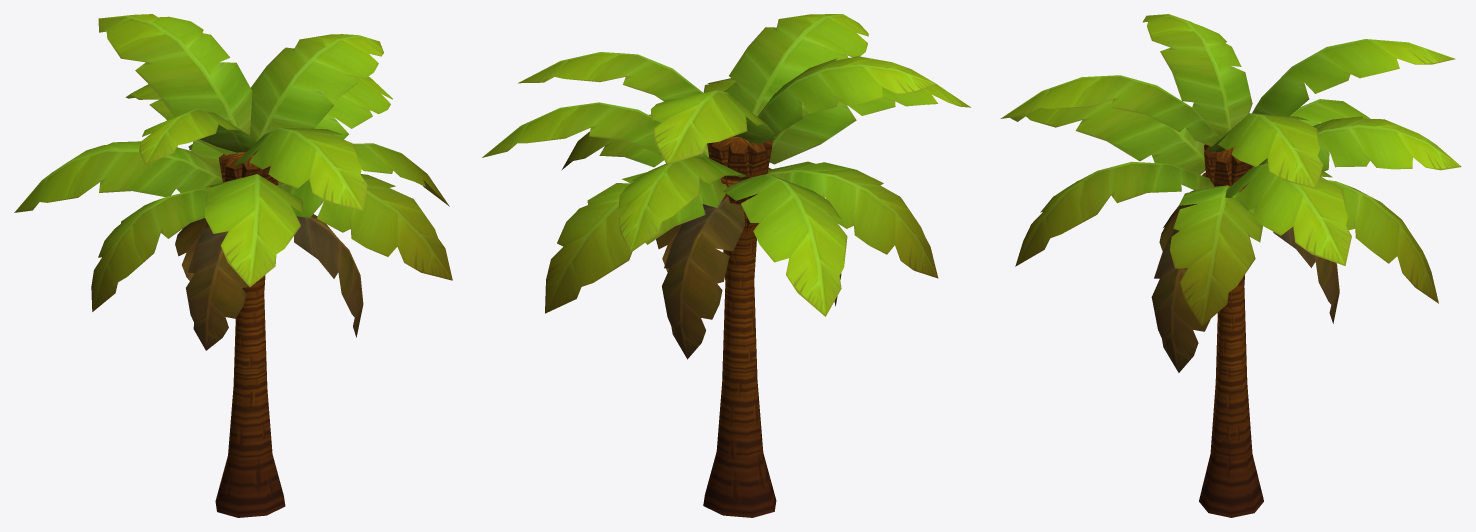
Rendered from CoconutTree.fbx.
The picture shows the model from 3 angles, left to right: view 1: azimuth 30°, elevation 25°; view 2: azimuth 150°, elevation 25°; view 3: azimuth 270°, elevation 25°; orthographic projection. The views are drawn at different scales.
Parts seen in each view (by area): view 1: coconut_tree; view 2: coconut_tree; view 3: coconut_tree.
Boxes of the visible parts, x1,y1,x2,y2 form: coconut_tree: (14, 14, 452, 517); coconut_tree: (482, 14, 970, 517); coconut_tree: (1000, 14, 1461, 517).
Bounding box in the file's own units: 3.43 × 3.94 × 3.69.
1 material, 1 textured.
